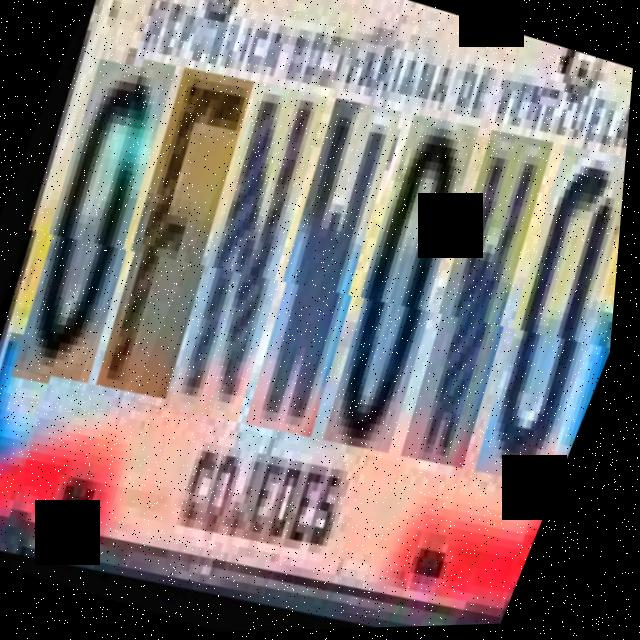0: (443, 151, 629, 503)
F: (66, 63, 282, 407)
N: (137, 81, 356, 433)
O: (292, 117, 507, 466), (0, 45, 205, 390)
W: (214, 100, 429, 449), (370, 135, 581, 484)
